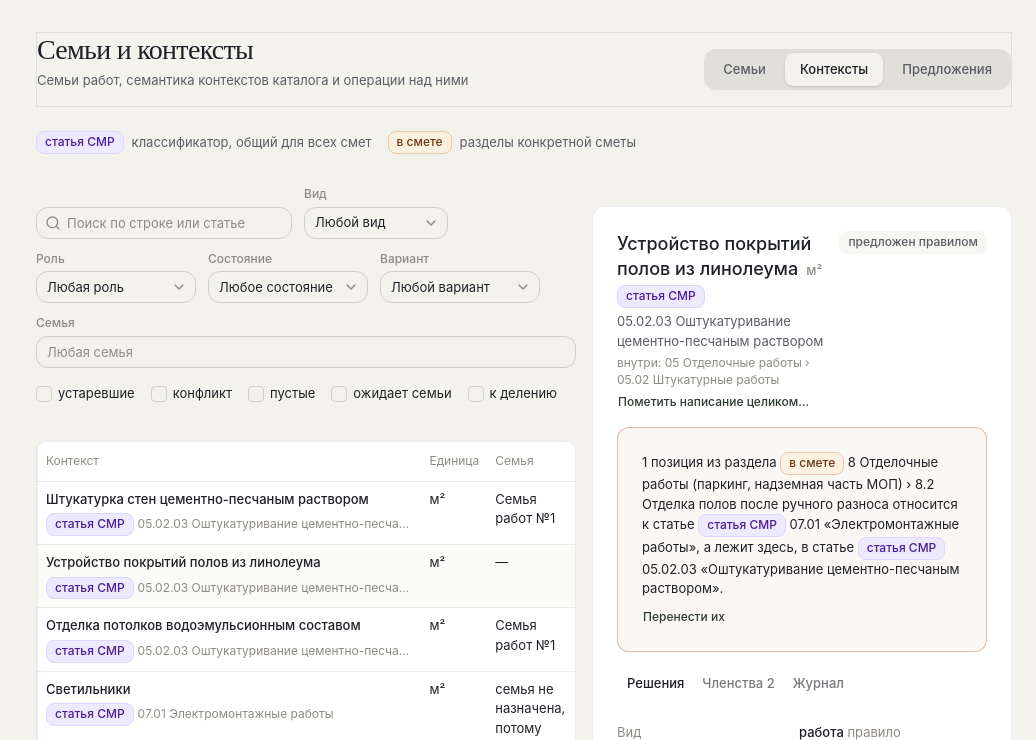
Test: FamiliesPage: вход по адресу ?context= › контекст из адреса остаётся выбранным, когда фильтр убрал его из списка
Type "нет такой работы" into the field named "Поиск по написанию каталога".
click(176, 223); type("нет такой работы")  # box [61,205,291,241]
(page scrolled)
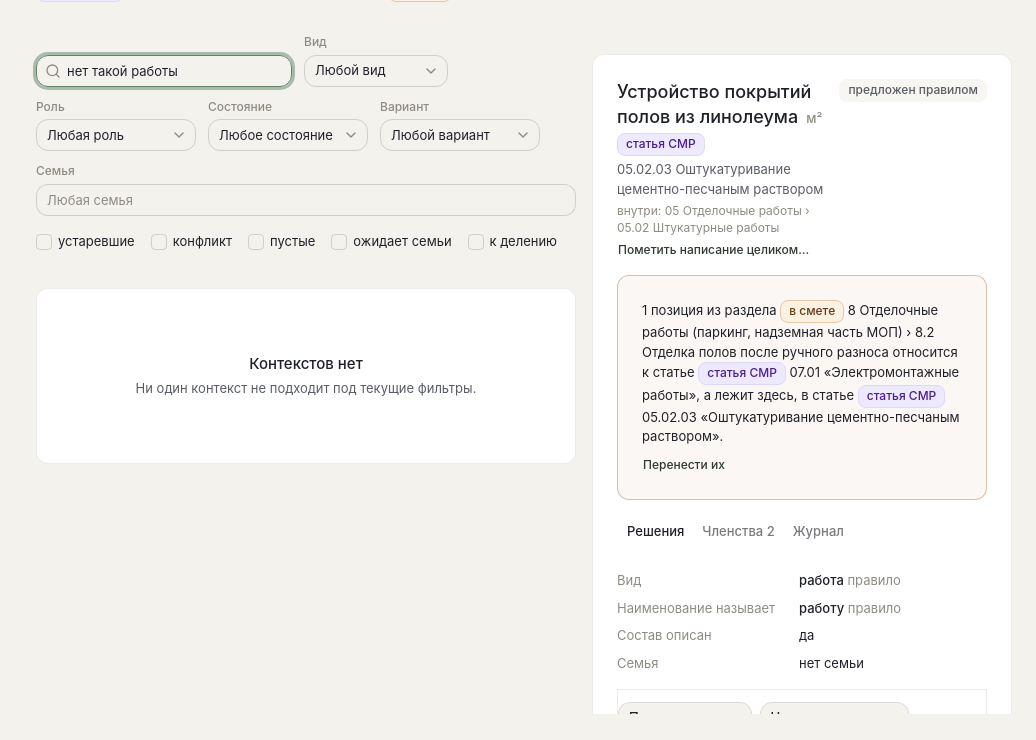
Expected: the heading "Устройство покрытий полов из линолеума" is shown, [617,81,811,127]
Now the heading "Контекстов нет" is shown, box [249,353,363,375]
